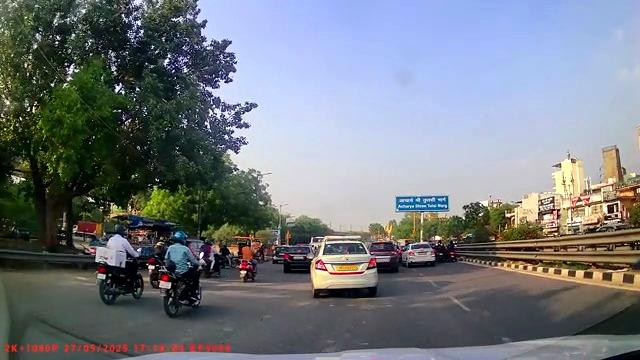motorcycle_with_helmet: (90, 230, 145, 306), (156, 231, 202, 318), (238, 240, 257, 281)
